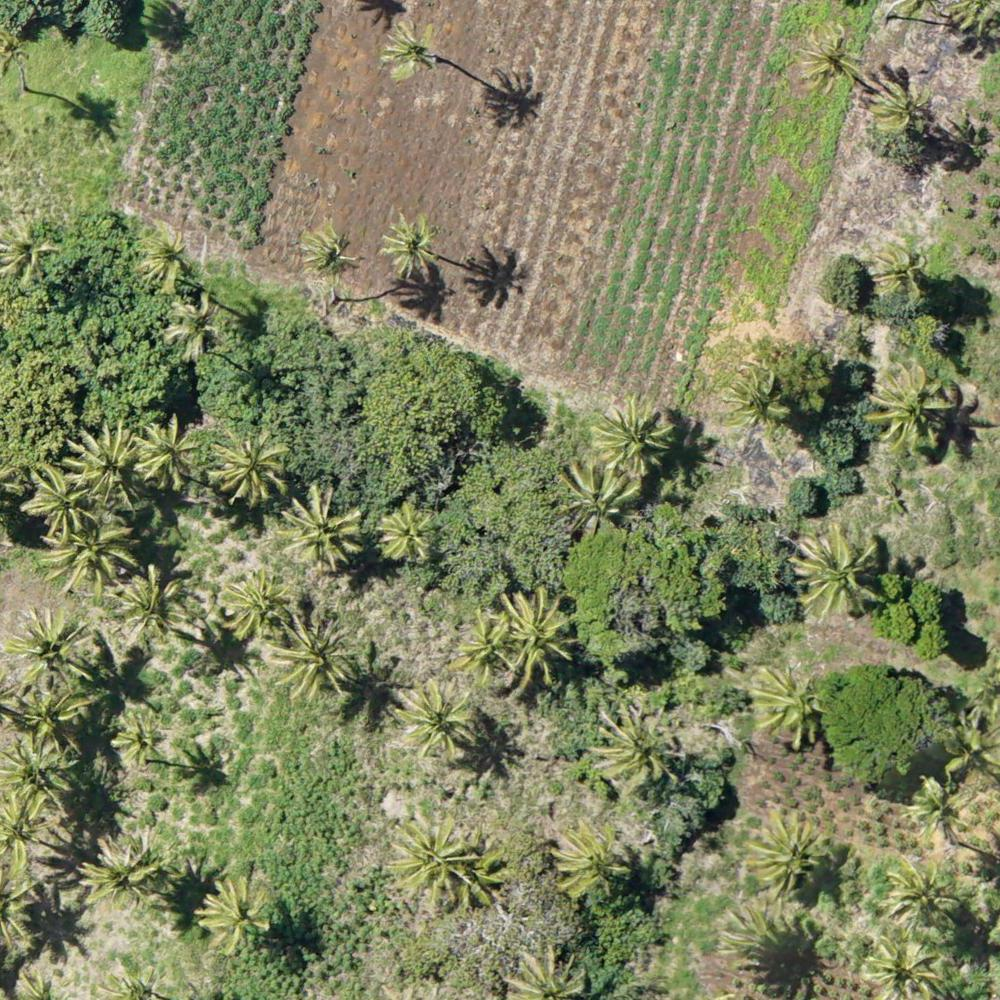Palm: (790, 523, 886, 615), (40, 517, 145, 593), (395, 679, 485, 765), (498, 588, 581, 681), (392, 815, 476, 905), (4, 606, 95, 689), (265, 615, 352, 701), (867, 365, 947, 454), (282, 486, 371, 566), (596, 700, 680, 783), (552, 813, 633, 899), (1, 677, 91, 754), (66, 416, 140, 509), (878, 852, 964, 932), (207, 425, 291, 505), (747, 807, 828, 886), (79, 834, 162, 910), (596, 390, 673, 471), (746, 663, 822, 742), (1, 733, 72, 813), (200, 877, 274, 952), (228, 565, 305, 636), (21, 459, 98, 530), (107, 574, 184, 641), (130, 418, 200, 490), (867, 933, 941, 1000), (451, 606, 518, 679), (720, 372, 788, 439), (378, 497, 442, 567), (799, 21, 861, 89), (134, 226, 196, 290), (873, 77, 937, 139), (384, 15, 443, 81), (909, 777, 973, 836), (872, 241, 930, 306), (298, 223, 358, 284), (167, 296, 223, 358), (381, 216, 435, 280), (1, 223, 57, 282), (114, 704, 166, 764)
